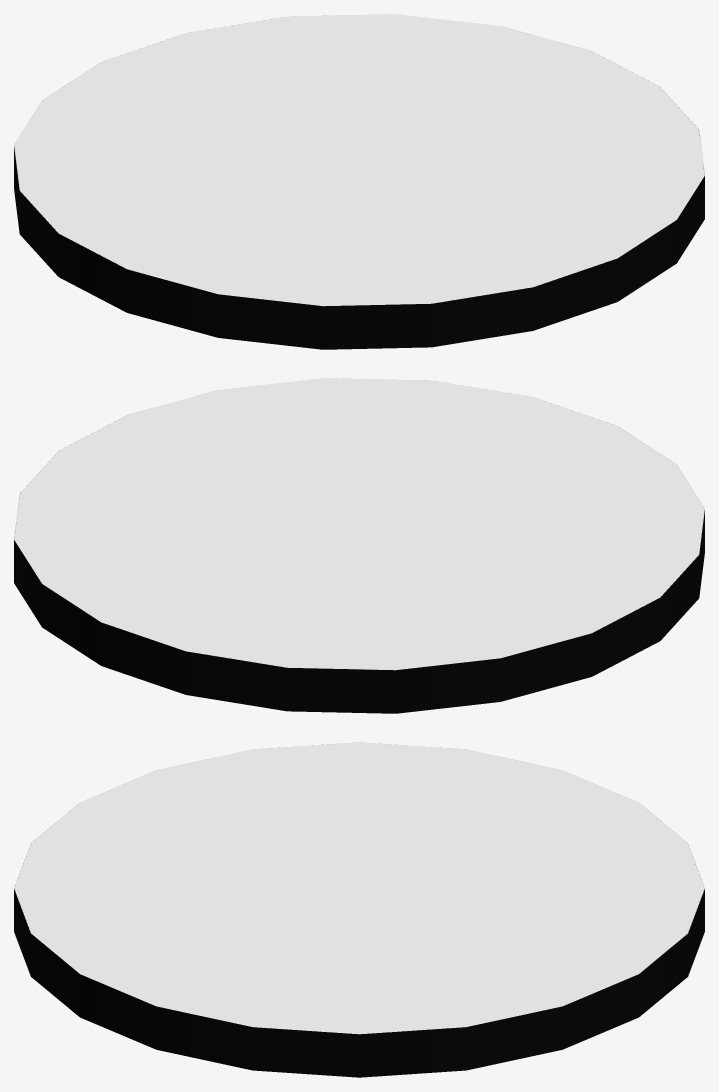
File: basexicara.obj
3 views of the same model, one above another, from view 1: azimuth 30°, elevation 25°; view 2: azimuth 150°, elevation 25°; view 3: azimuth 270°, elevation 25° (orthographic).
Parts seen in each view (by area): view 1: basexicara:pCylinder24; view 2: basexicara:pCylinder24; view 3: basexicara:pCylinder24.
Part boxes in pixels (<box>): basexicara:pCylinder24: <box>14,14,704,349</box>; basexicara:pCylinder24: <box>14,378,704,713</box>; basexicara:pCylinder24: <box>14,742,704,1077</box>.
Size of the model in its own units: 3.96 by 0.274 by 3.96.
1 material, 1 textured.
